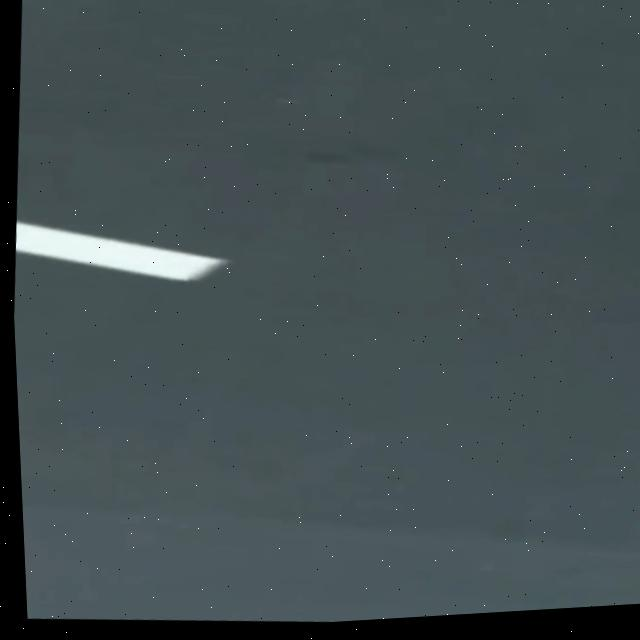center: (15, 220, 228, 279)
